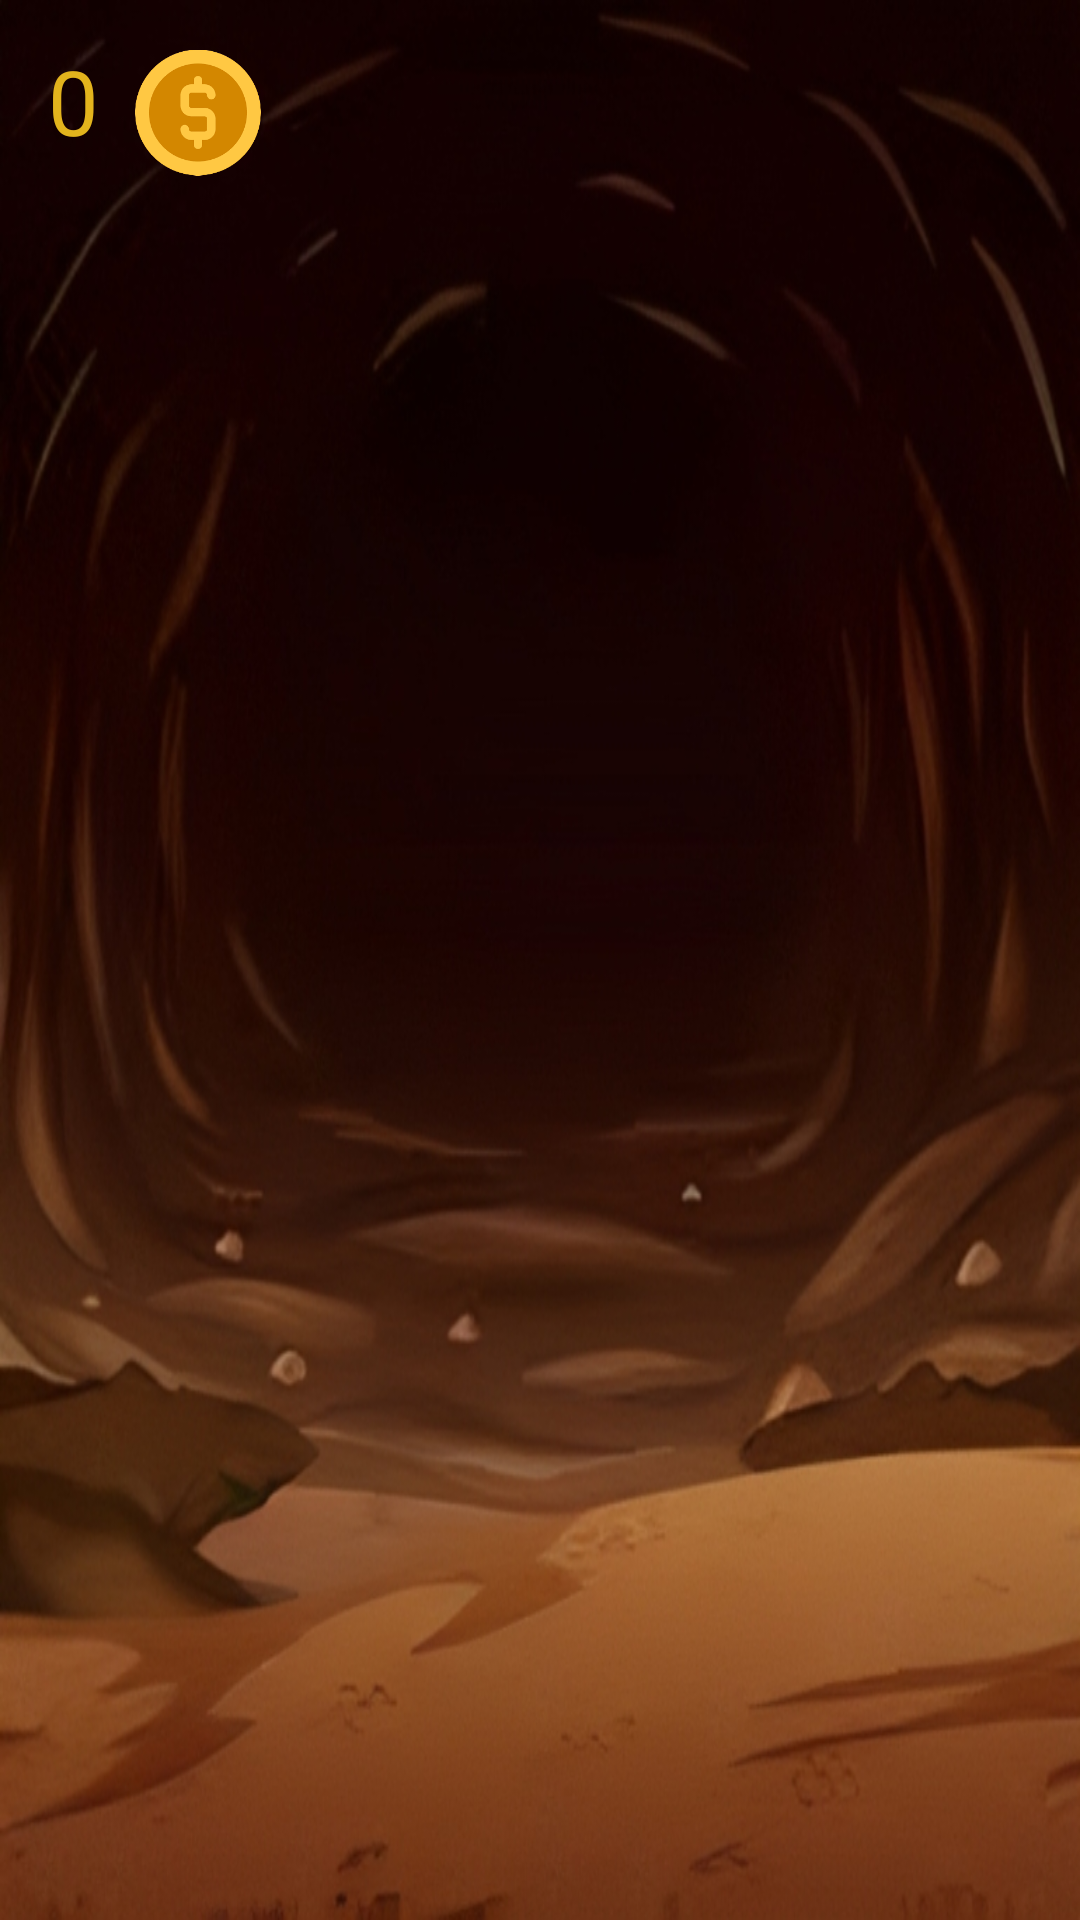

Named icons in this screenshot (1080 x 1920) and their centers, (x=x, y=y):
coin: (x=198, y=113)
